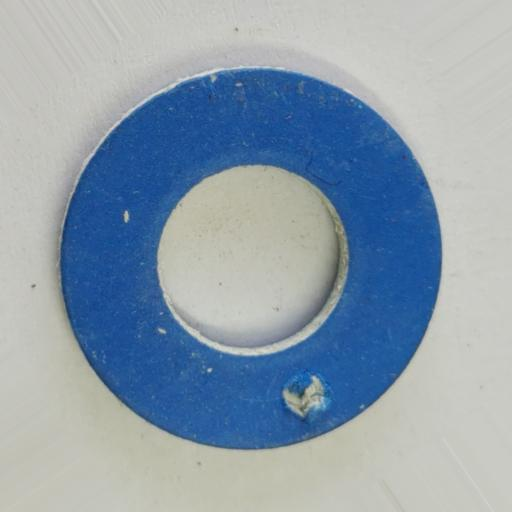defect: (280, 370, 334, 424)
